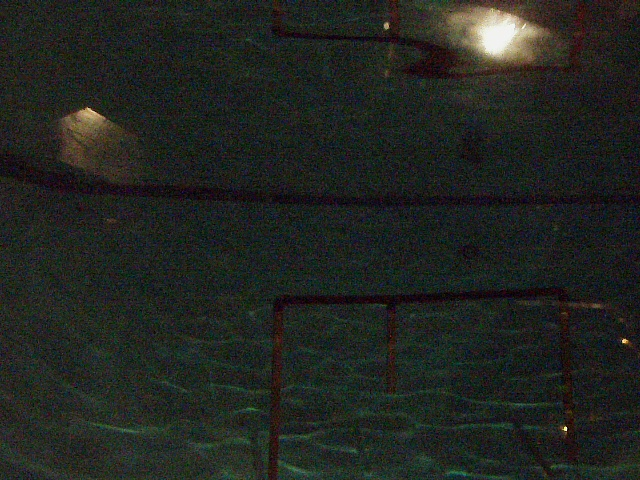Gate: (555, 297, 582, 480), (264, 302, 287, 479), (383, 302, 400, 394)
